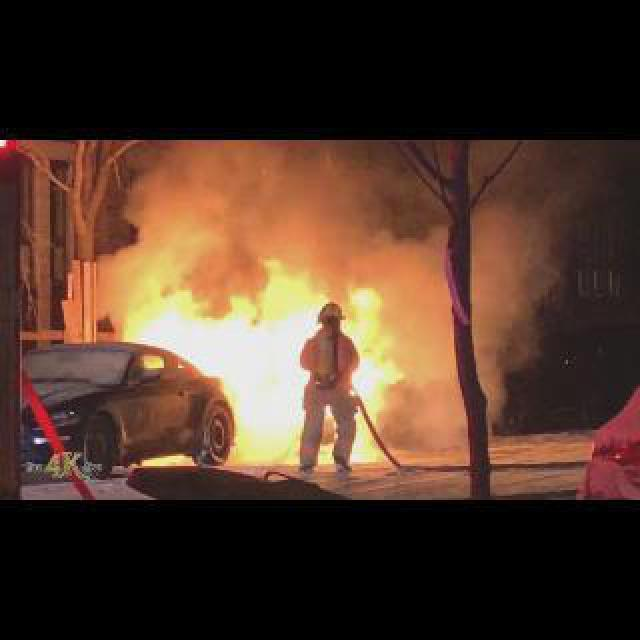Fire: (128, 260, 322, 466), (340, 284, 394, 464)
Smoke: (388, 140, 578, 456), (92, 140, 386, 280)
